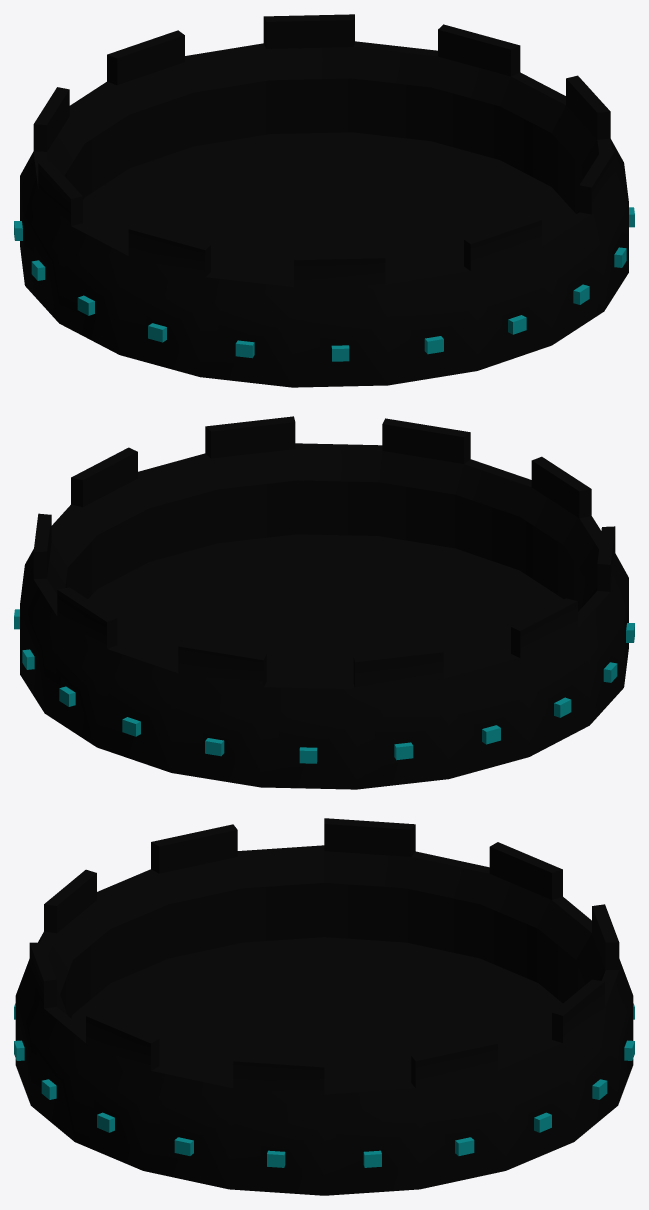
The model's file is cow-platform.obj.
The picture shows the model from 3 angles, top to bottom: view 1: azimuth 30°, elevation 25°; view 2: azimuth 150°, elevation 25°; view 3: azimuth 270°, elevation 25°; orthographic projection.
Parts seen in each view (by area): view 1: pCylinder1; view 2: pCylinder1; view 3: pCylinder1.
Boxes of the visible parts, x1=… form: pCylinder1: x1=14, y1=14, x2=634, y2=387; pCylinder1: x1=14, y1=416, x2=634, y2=789; pCylinder1: x1=14, y1=818, x2=634, y2=1195.
Bounding box in the file's own units: 12.07 × 2.63 × 12.07.
